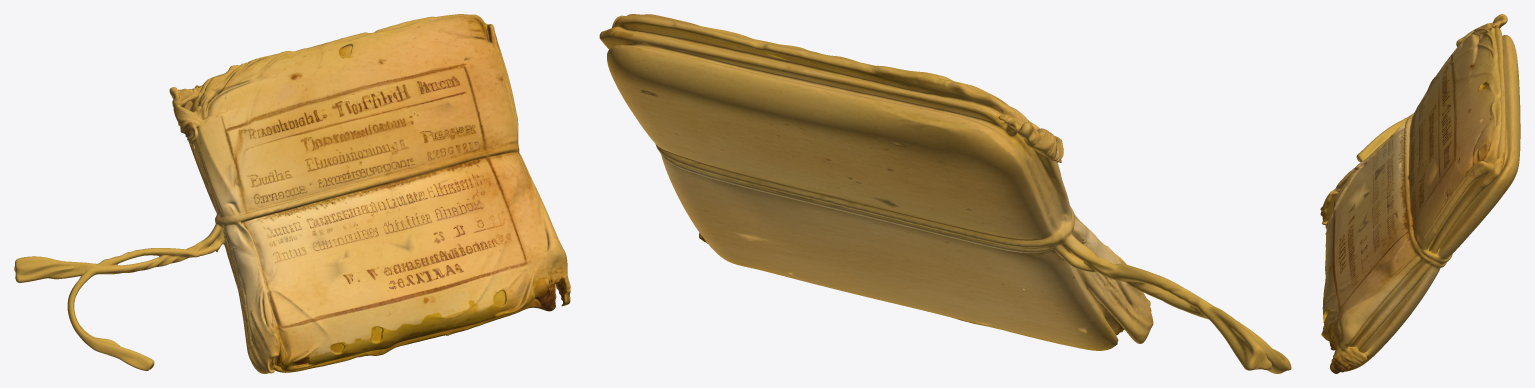
The picture shows the model from 3 angles, left to right: view 1: azimuth 30°, elevation 25°; view 2: azimuth 150°, elevation 25°; view 3: azimuth 270°, elevation 25°; orthographic projection. The views are drawn at different scales.
Parts seen in each view (by area): view 1: node_0; view 2: node_0; view 3: node_0.
Part boxes in pixels (x1=…): node_0: x1=14, y1=14, x2=570, y2=373; node_0: x1=599, y1=14, x2=1291, y2=373; node_0: x1=1320, y1=14, x2=1520, y2=373.
Bounding box in the file's own units: 1.07 × 0.5322 × 0.4043.
1 material, 1 textured.
